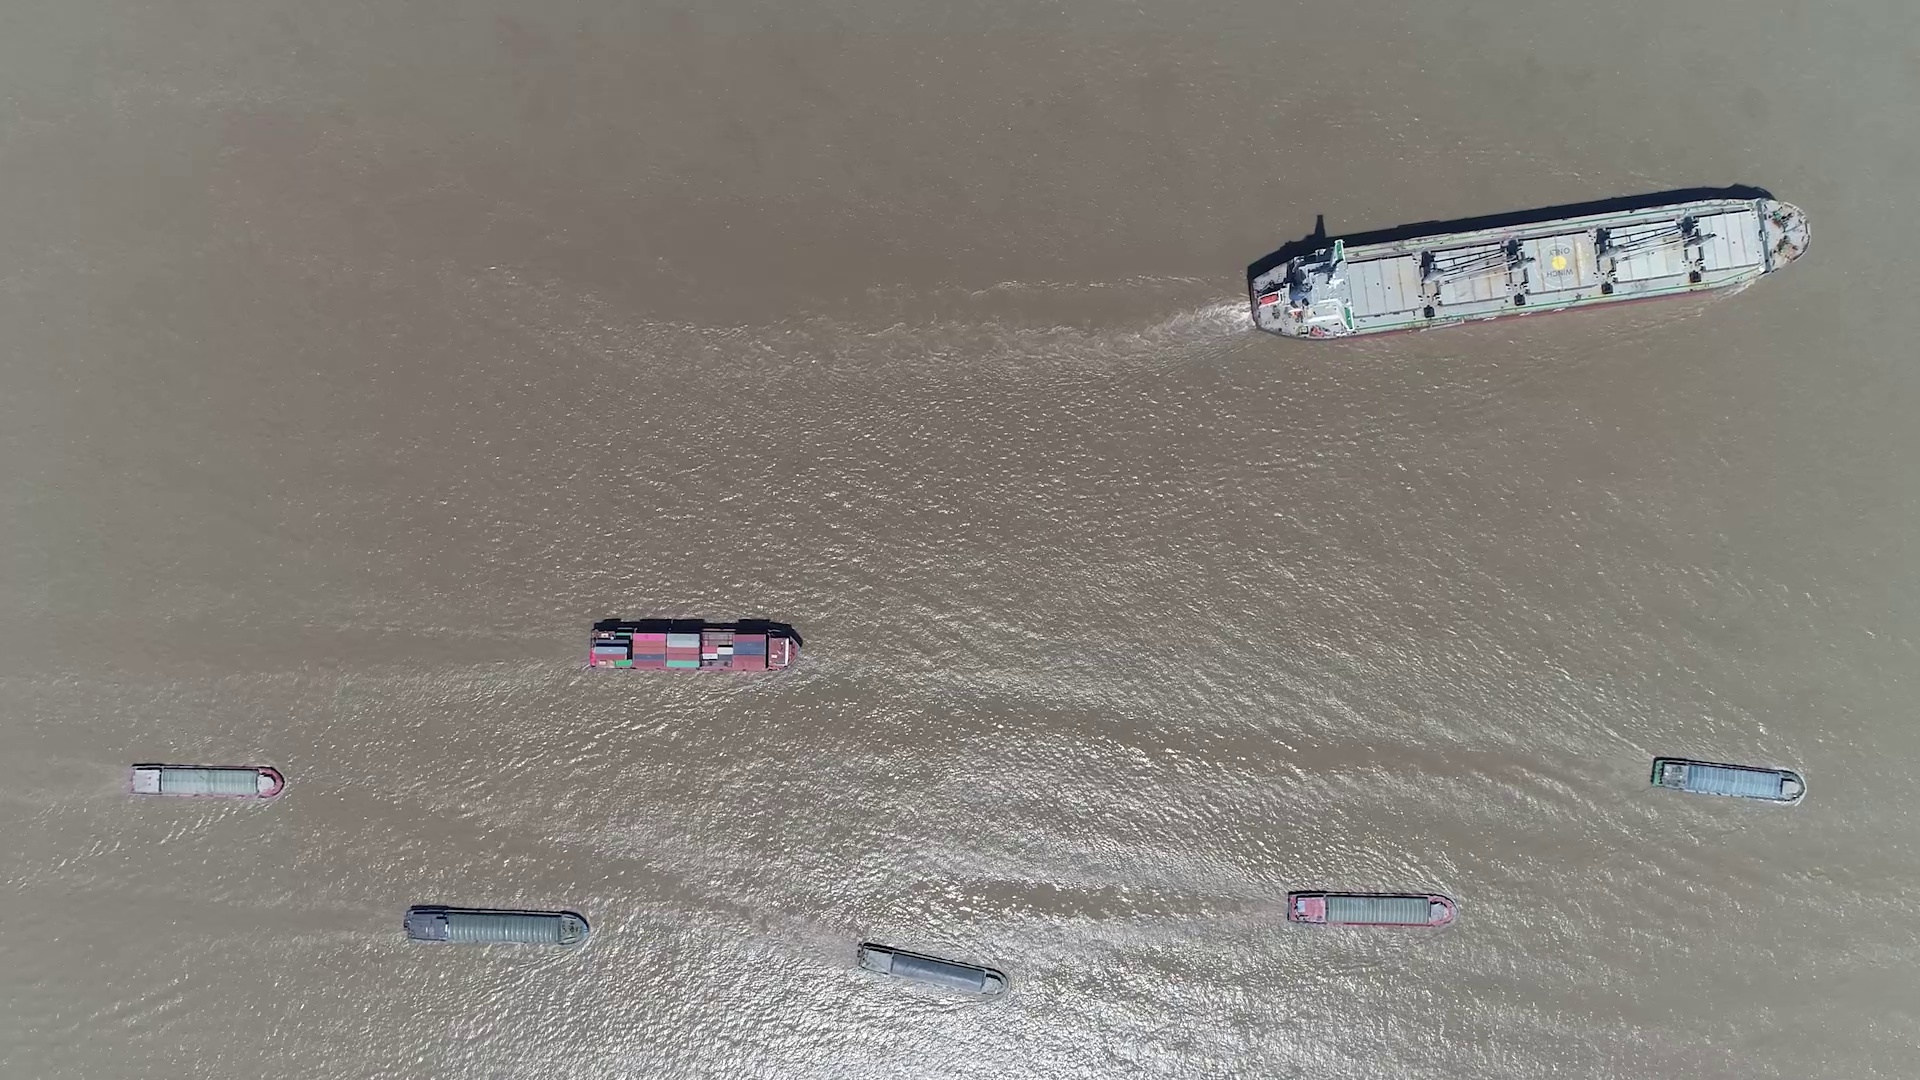ship: (1247, 194, 1807, 340), (588, 622, 800, 673), (856, 942, 1006, 996), (405, 905, 588, 945), (1650, 756, 1805, 802), (1286, 890, 1457, 928), (127, 764, 282, 799)
